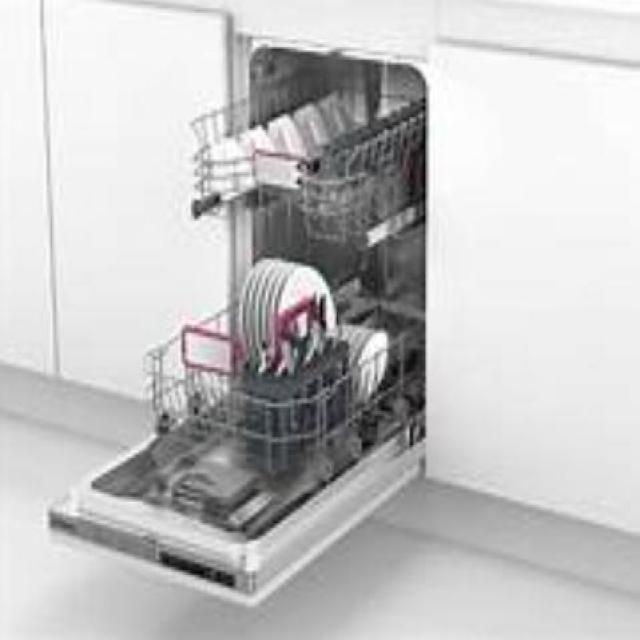dishwasher: (42, 32, 434, 616)
